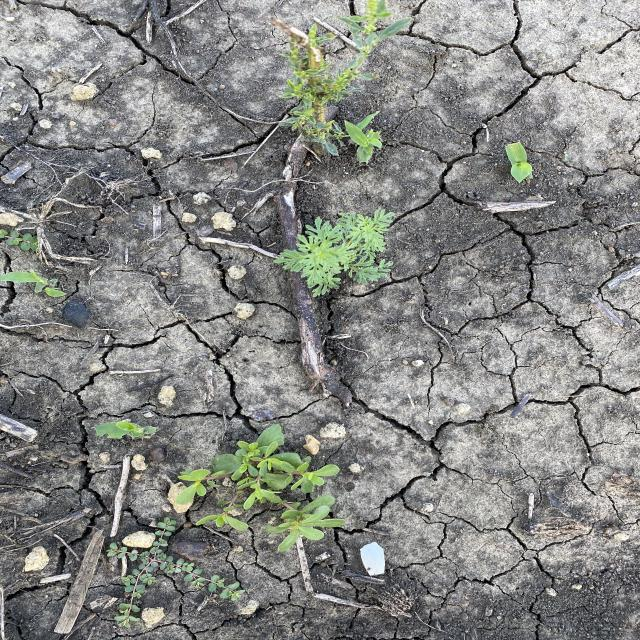Purslane: (165, 424, 355, 554)
Ragweed: (270, 204, 400, 300)
SpottedSpurge: (105, 516, 247, 630), (1, 229, 41, 255)
